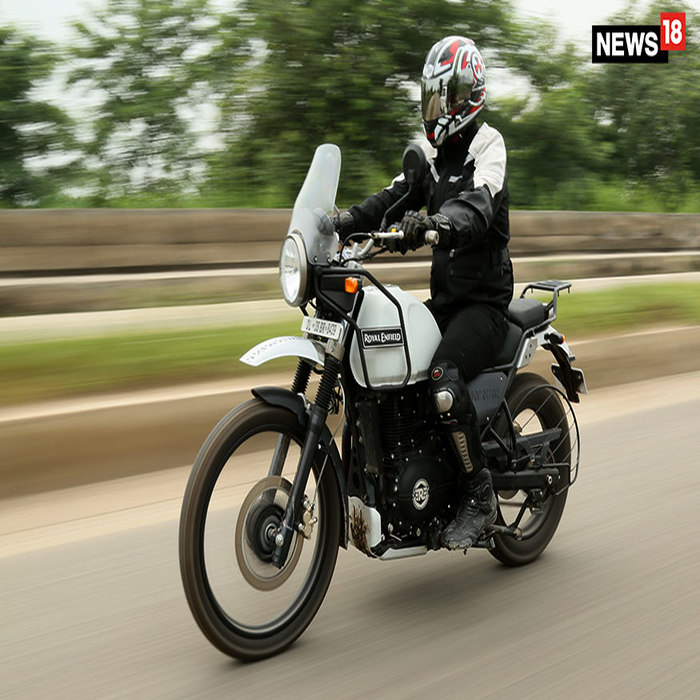h: (418, 35, 491, 147)
